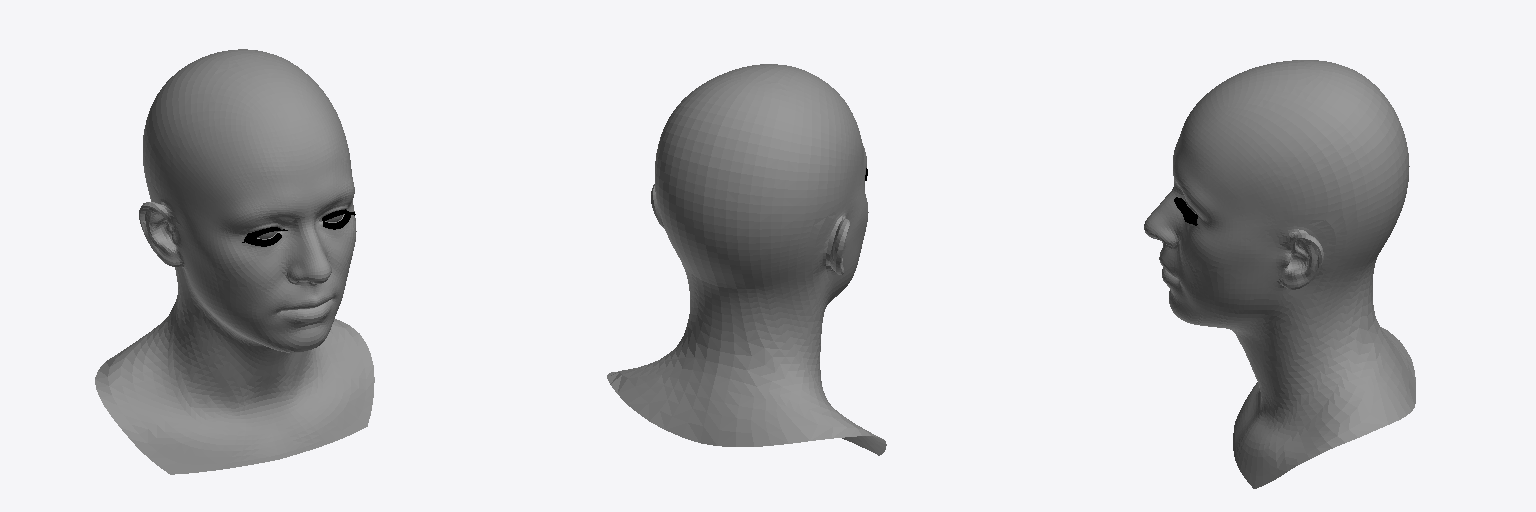
The model's file is identity049.obj.
The picture shows the model from 3 angles: view 1: azimuth 30°, elevation 25°; view 2: azimuth 150°, elevation 25°; view 3: azimuth 270°, elevation 25°; orthographic projection.
Bounding box in the file's own units: 24.77 × 33.78 × 22.32.